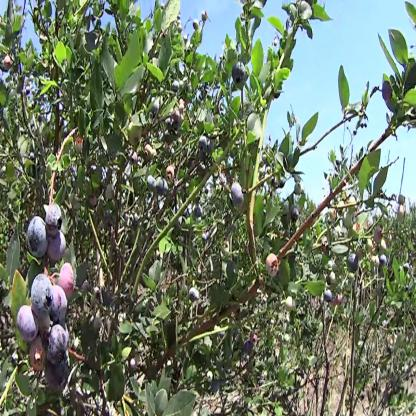intermediate: (51, 286, 68, 327), (27, 343, 47, 374), (59, 264, 74, 299), (265, 253, 280, 280), (167, 166, 176, 182), (375, 228, 384, 243), (6, 58, 12, 71)
mature: (47, 204, 67, 259), (32, 273, 54, 320), (48, 325, 71, 362), (28, 217, 48, 258), (18, 308, 40, 343), (147, 177, 170, 196), (231, 182, 246, 207), (232, 61, 247, 85), (348, 256, 360, 272), (292, 207, 301, 224), (199, 137, 207, 152), (325, 293, 334, 305)
young: (338, 200, 357, 224), (128, 124, 144, 147), (352, 225, 361, 244), (398, 207, 406, 225), (372, 258, 381, 273)
